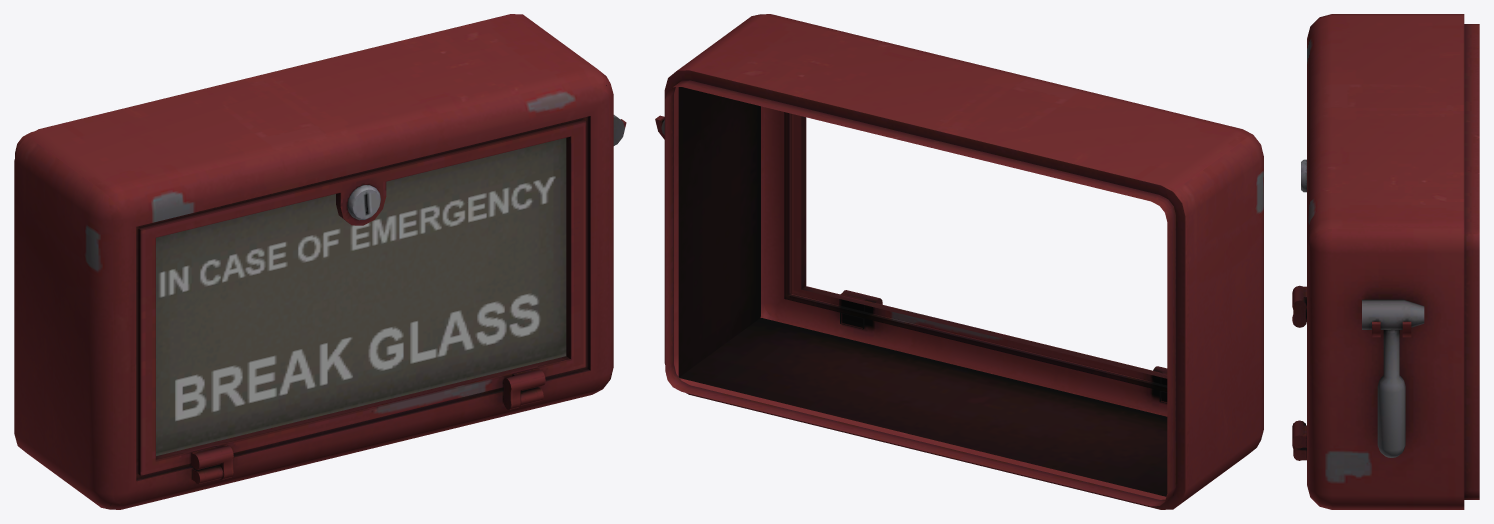
File: plague_box_alt.glb
The picture shows the model from 3 angles, left to right: view 1: azimuth 30°, elevation 25°; view 2: azimuth 150°, elevation 25°; view 3: azimuth 270°, elevation 25°; orthographic projection. The views are drawn at different scales.
Parts seen in each view (by area): view 1: plague_box_alt; view 2: plague_box_alt; view 3: plague_box_alt.
Part boxes in pixels (x1=…): plague_box_alt: x1=14, y1=14, x2=626, y2=509; plague_box_alt: x1=655, y1=14, x2=1263, y2=509; plague_box_alt: x1=1292, y1=14, x2=1479, y2=509.
Size of the model in its own units: 0.7683 by 0.4252 by 0.2515.
Materials: 2 (2 with a texture image).
